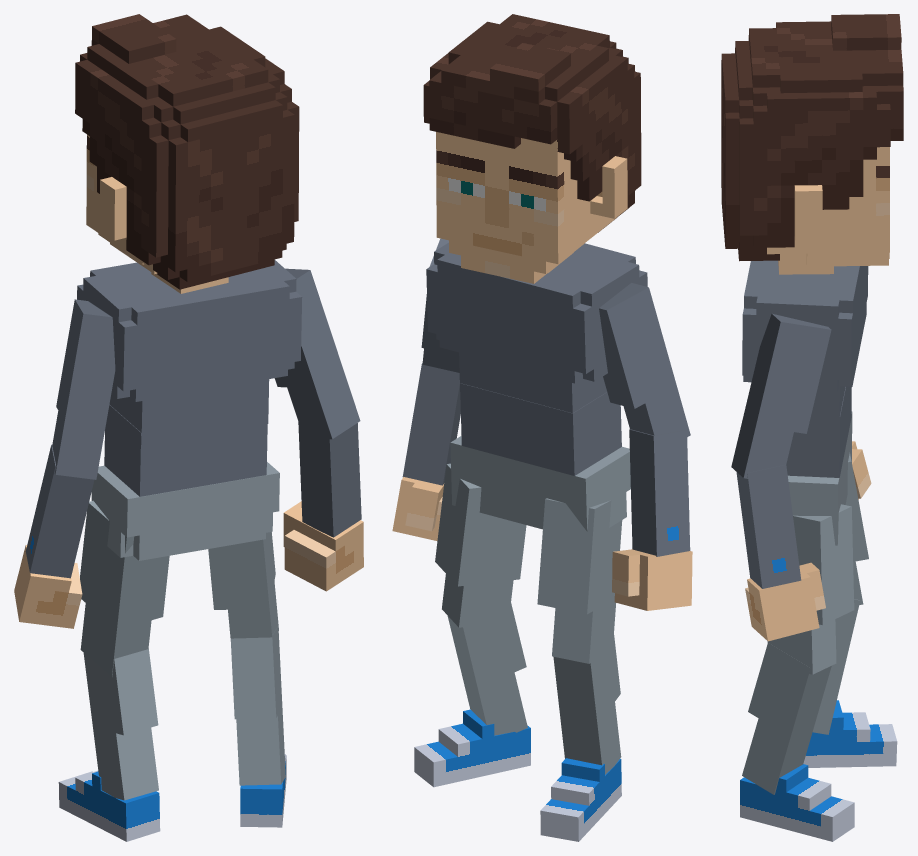
The model's file is Mammals_Biped_Medium_Hu.glb.
3 renders of one model, left to right at view 1: azimuth 30°, elevation 25°; view 2: azimuth 150°, elevation 25°; view 3: azimuth 270°, elevation 25°, orthographic. The views are drawn at different scales.
Visible parts, largest first — view 1: Head-Local, Chest-Local, Hip-Local, Left_Thigh-Local, Belly-Local, Left_Leg-Local, Left_Arm-Local, Right_Leg-Local, Right_Arm-Local, Right_Forearm-Local, Right_Thigh-Local, Left_Forearm-Local (+4 smaller); view 2: Head-Local, Chest-Local, Left_Thigh-Local, Belly-Local, Right_Thigh-Local, Hip-Local, Left_Arm-Local, Left_Forearm-Local, Right_Leg-Local, Left_Leg-Local, Right_Foot-Local, Right_Forearm-Local (+4 smaller); view 3: Head-Local, Chest-Local, Right_Arm-Local, Right_Leg-Local, Right_Thigh-Local, Right_Forearm-Local, Right_Foot-Local, Left_Foot-Local, Right_Hand-Local, Belly-Local, Hip-Local, Left_Leg-Local (+2 smaller).
Boxes of the visible parts, <box> form: Head-Local: <box>75,14,299,293</box>; Chest-Local: <box>77,260,302,445</box>; Hip-Local: <box>91,462,279,560</box>; Left_Thigh-Local: <box>80,500,169,676</box>; Belly-Local: <box>104,404,267,496</box>; Left_Leg-Local: <box>83,649,158,800</box>; Left_Arm-Local: <box>52,299,115,479</box>; Right_Leg-Local: <box>230,626,285,785</box>; Right_Arm-Local: <box>274,268,360,439</box>; Right_Forearm-Local: <box>298,422,361,537</box>; Right_Thigh-Local: <box>208,532,278,638</box>; Left_Forearm-Local: <box>25,444,94,578</box>; Head-Local: <box>423,14,641,283</box>; Chest-Local: <box>426,242,647,413</box>; Left_Thigh-Local: <box>537,498,622,663</box>; Belly-Local: <box>460,383,621,475</box>; Right_Thigh-Local: <box>435,463,526,627</box>; Hip-Local: <box>450,436,630,531</box>; Left_Arm-Local: <box>599,283,690,436</box>; Left_Forearm-Local: <box>629,429,690,556</box>; Right_Leg-Local: <box>447,603,527,735</box>; Left_Leg-Local: <box>553,635,621,774</box>; Right_Foot-Local: <box>414,709,530,787</box>; Right_Forearm-Local: <box>402,363,460,485</box>; Head-Local: <box>721,14,903,274</box>; Chest-Local: <box>742,260,868,429</box>; Right_Arm-Local: <box>731,313,831,478</box>; Right_Leg-Local: <box>742,643,831,794</box>; Right_Thigh-Local: <box>767,504,854,674</box>; Right_Forearm-Local: <box>736,464,801,588</box>; Right_Foot-Local: <box>740,764,854,841</box>; Left_Foot-Local: <box>803,700,897,767</box>; Right_Hand-Local: <box>745,562,825,641</box>; Belly-Local: <box>786,386,851,477</box>; Hip-Local: <box>788,411,852,545</box>; Left_Leg-Local: <box>812,599,860,734</box>.
Size of the model in its own units: 26.31 by 60.64 by 13.34.
Materials: 16 (16 with a texture image).
